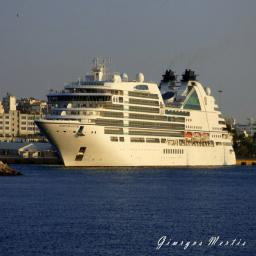cruises: (33, 57, 239, 172)
